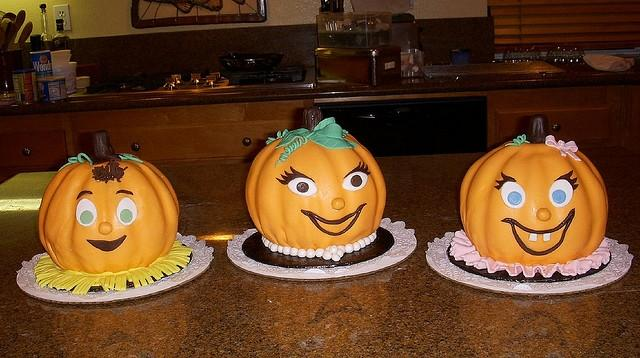pumpkin: (460, 114, 610, 266), (245, 105, 387, 250), (39, 130, 180, 274)
